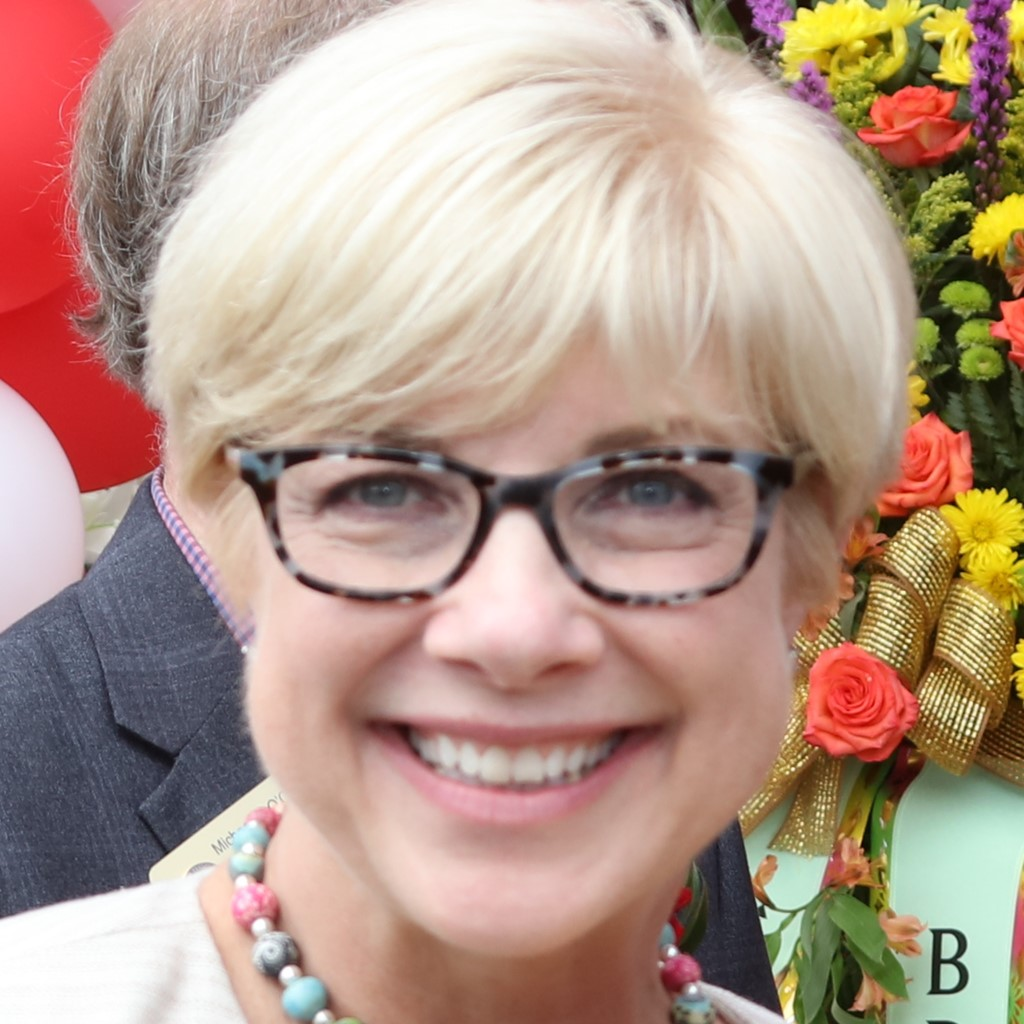sin_mascara: (250, 183, 792, 944)
